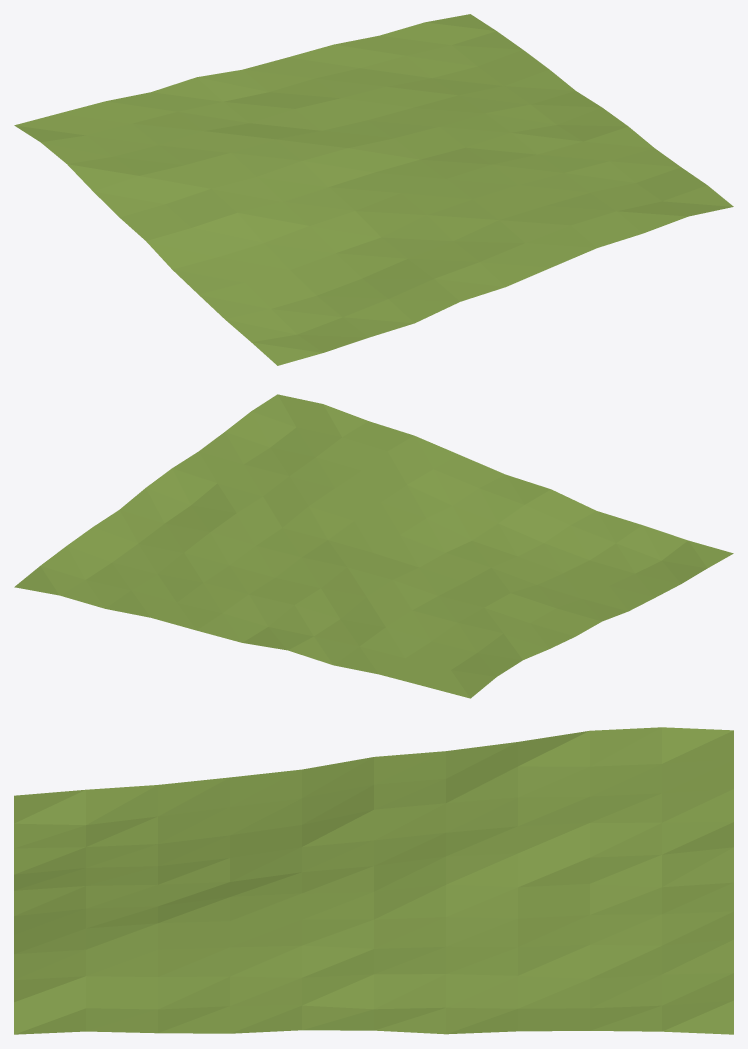
The model's file is terrain-plane_03-3.fbx.
The picture shows the model from 3 angles, top to bottom: view 1: azimuth 30°, elevation 25°; view 2: azimuth 150°, elevation 25°; view 3: azimuth 270°, elevation 25°; orthographic projection. The views are drawn at different scales.
Parts seen in each view (by area): view 1: terrain-plane_03-3; view 2: terrain-plane_03-3; view 3: terrain-plane_03-3.
Part boxes in pixels (left/top/right/bottom): terrain-plane_03-3: left=14, top=14, right=733, bottom=365; terrain-plane_03-3: left=14, top=394, right=733, bottom=698; terrain-plane_03-3: left=14, top=727, right=733, bottom=1034.
Size of the model in its own units: 20.01 by 2.15 by 20.
